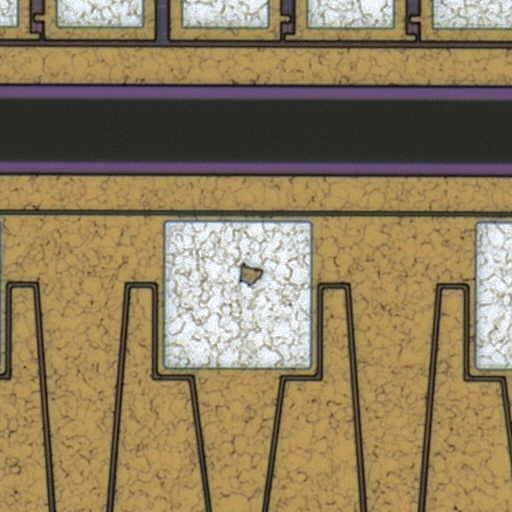BLOCK ETCH: (233, 258, 269, 294)
